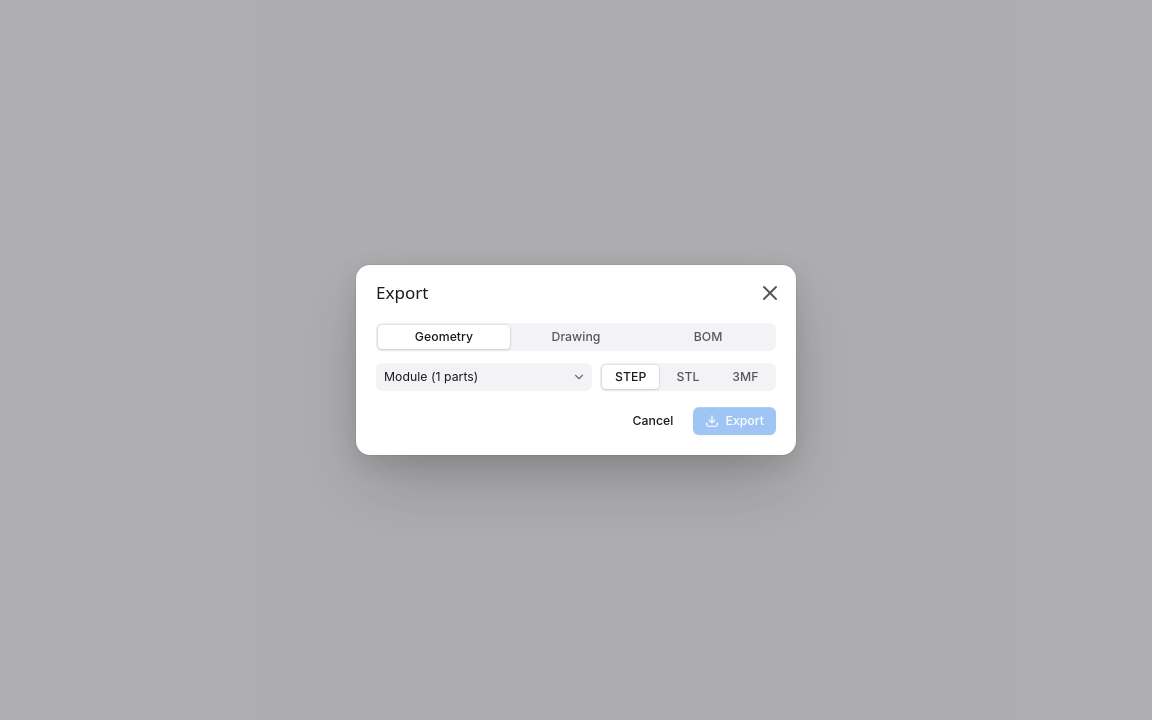
Test: opens geometry and BOM export for the second assembly exported by a studio
Check: the button with aria-label "Parts to export" reads "Module (1 parts)", box x1=376 y1=363 x2=592 y2=391
Click the radio button "BOM" at (708, 337), box x1=642 y1=325 x2=774 y2=349
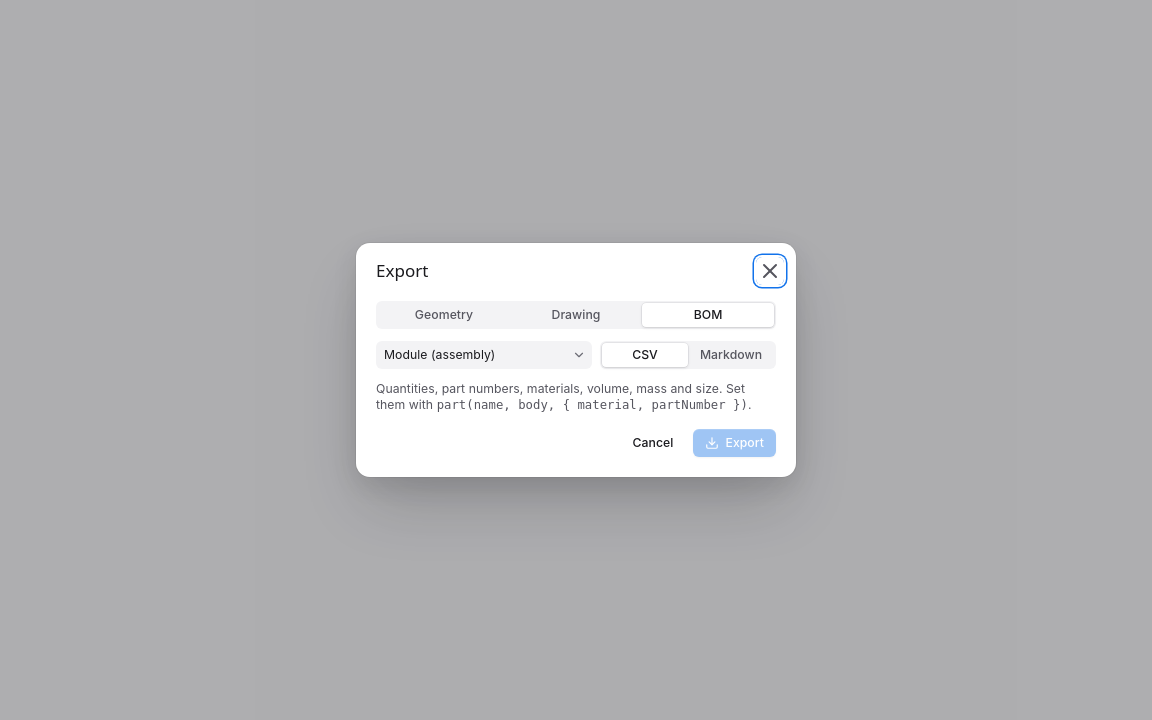
Check: the button with aria-label "Bill of materials for" reads "Module (assembly)", box x1=376 y1=341 x2=592 y2=369
